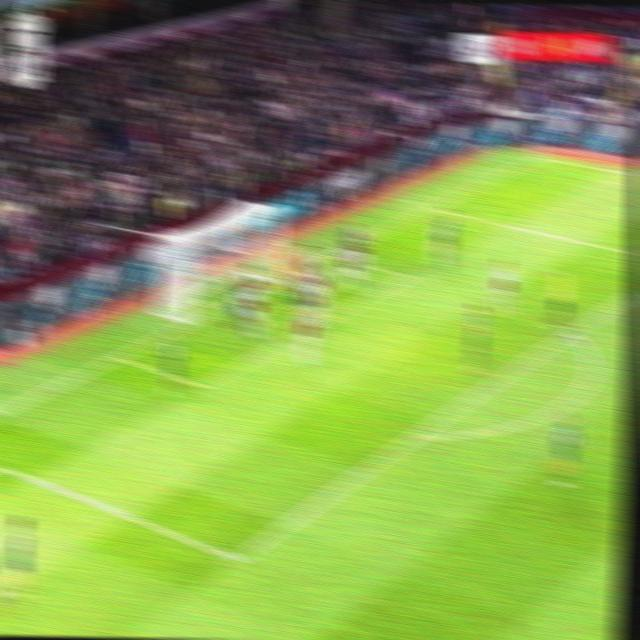bigarea_bottom_inner: (220, 542, 253, 574)
bigarea_top_outter: (421, 198, 444, 216)
bottom_arc_area_intersection: (402, 422, 430, 448)
corner: (525, 148, 554, 166)
smallarea_bottom_inner: (188, 371, 215, 396)
smallarea_bottom_outter: (107, 342, 133, 367)
smallarea_top_inner: (396, 265, 420, 284)
smallarea_top_outter: (322, 245, 346, 263)
top_arc_area_intersection: (559, 318, 586, 343)
